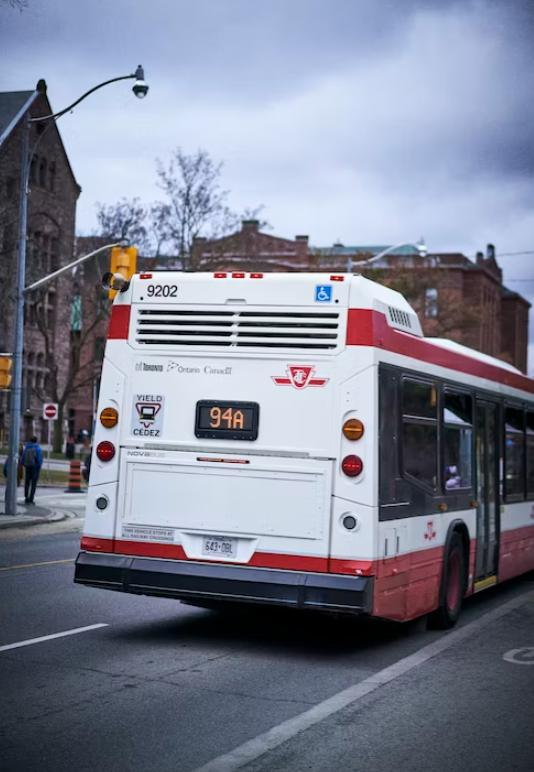vehicle: (72, 273, 534, 638)
